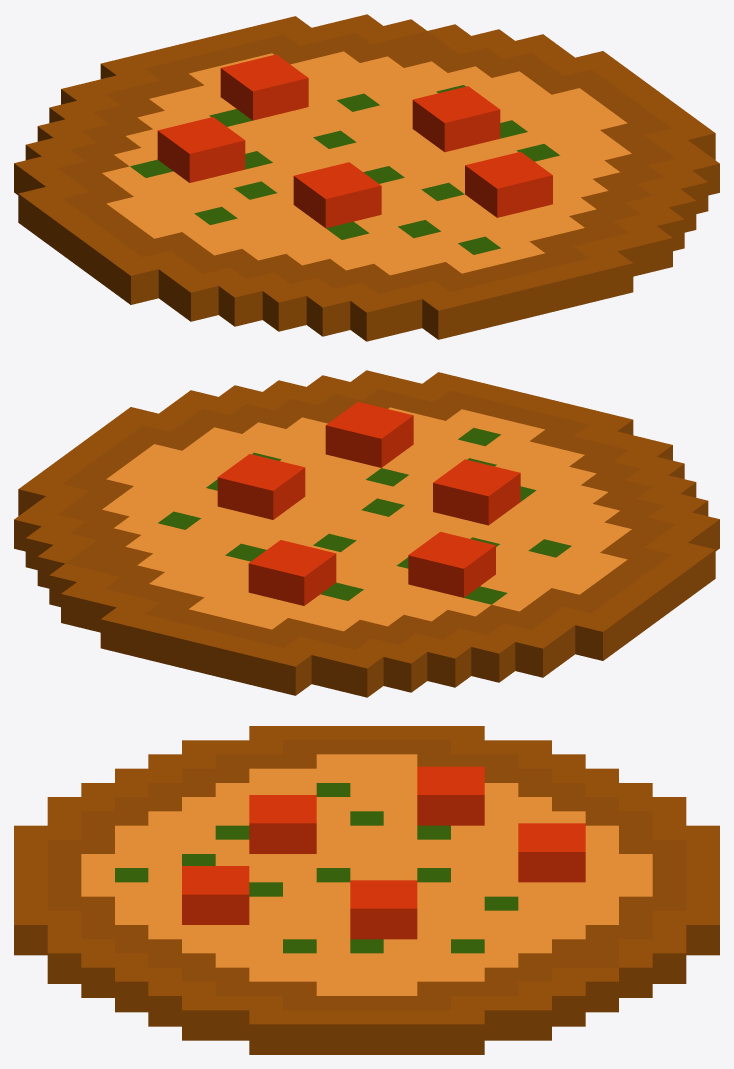
The model's file is pixel_pizza.glb.
The picture shows the model from 3 angles, top to bottom: view 1: azimuth 30°, elevation 25°; view 2: azimuth 150°, elevation 25°; view 3: azimuth 270°, elevation 25°; orthographic projection. The views are drawn at different scales.
Visible parts, largest first — view 1: Object_2; view 2: Object_2; view 3: Object_2.
Part boxes in pixels (bbox=[...]): Object_2: bbox=[14, 14, 719, 341]; Object_2: bbox=[14, 370, 719, 697]; Object_2: bbox=[14, 726, 719, 1054].
Bounding box in the file's own units: 21 × 2 × 21.
1 material, 1 textured.
